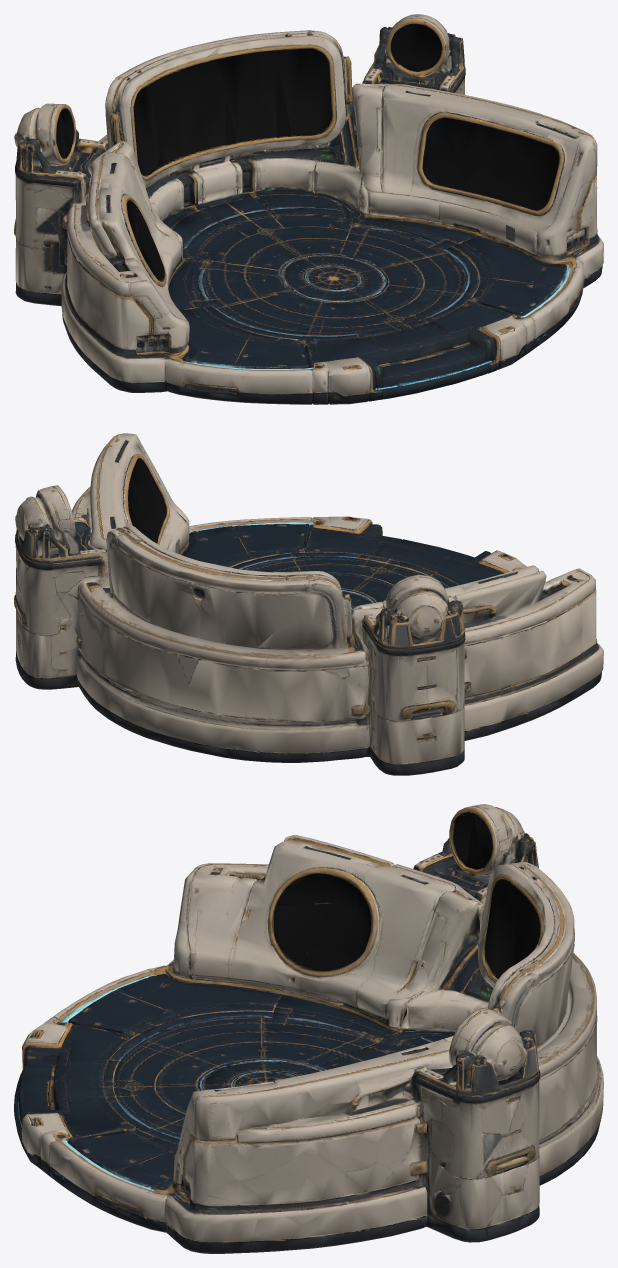
The model's file is side-station-model-candidate-01.glb.
3 renders of one model, top to bottom at view 1: azimuth 30°, elevation 25°; view 2: azimuth 150°, elevation 25°; view 3: azimuth 270°, elevation 25°, orthographic. The views are drawn at different scales.
Parts seen in each view (by area): view 1: mesh_node; view 2: mesh_node; view 3: mesh_node.
Boxes of the visible parts, bbox=[...] form: mesh_node: bbox=[14, 14, 603, 404]; mesh_node: bbox=[14, 433, 603, 775]; mesh_node: bbox=[14, 804, 603, 1253].
Size of the model in its own units: 2 by 0.7085 by 1.8.
1 material, 1 textured.
